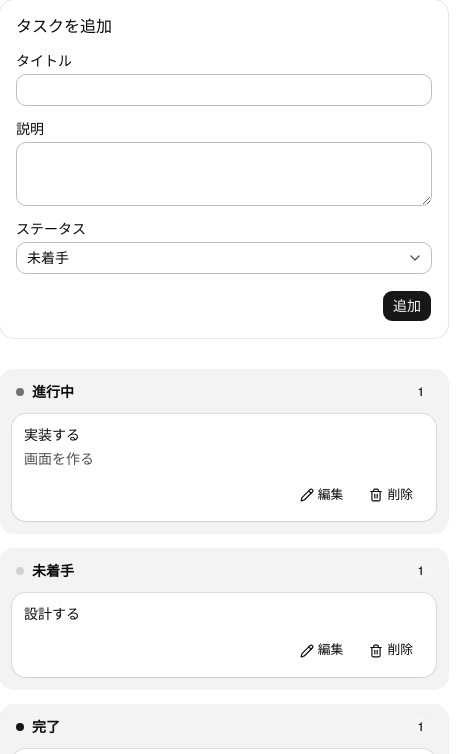
Scenario: 追加 › タイトルが空のまま追加するとエラーが表示され、タスクは増えない
What coordinates should you click on to do the following:
click the button "追加"
I would click on:
 (407, 306)
Its box is [382, 290, 432, 322].
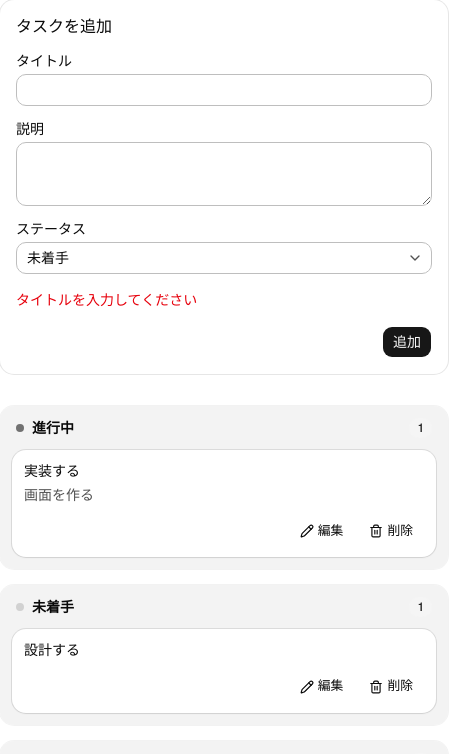
Now the message reads "タイトルを入力してください", box [16, 291, 197, 309]
